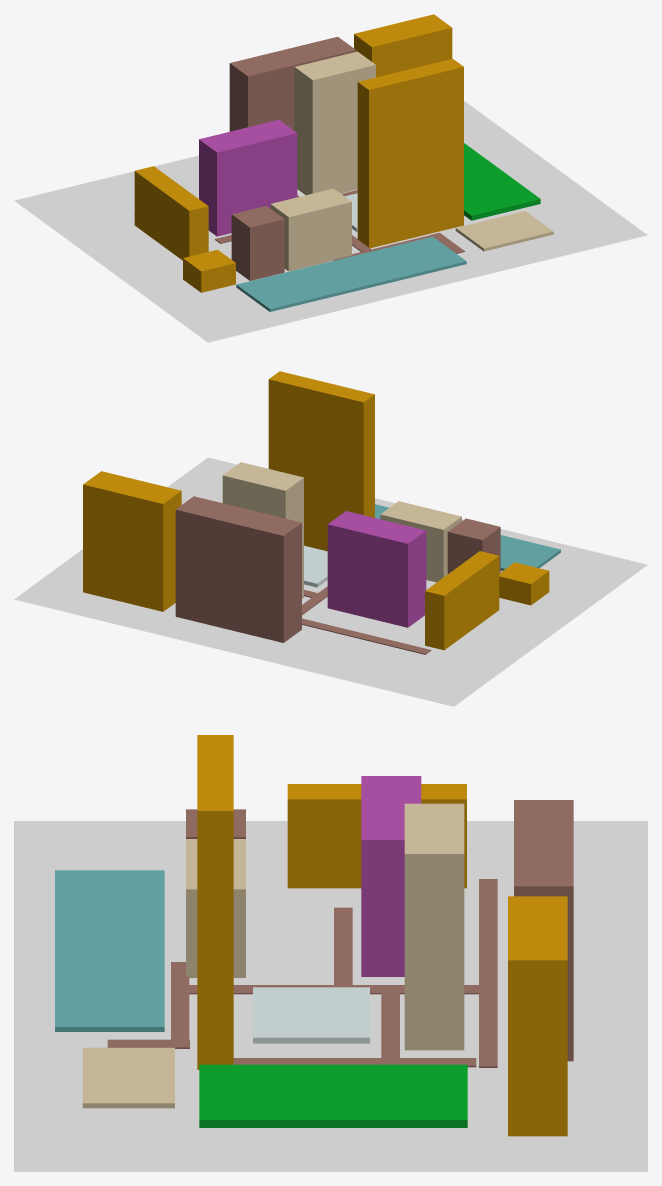
The picture shows the model from 3 angles, top to bottom: view 1: azimuth 30°, elevation 25°; view 2: azimuth 150°, elevation 25°; view 3: azimuth 270°, elevation 25°; orthographic projection. The views are drawn at different scales.
Visible parts, largest first — view 1: Plane, Cube, Cube.007, Cube.032, Cube.005, Cube.002, Cube.004, Cube.028, Cube.024, Cube.029, Cube.020, Cube.033 (+17 smaller); view 2: Plane, Cube.028, Cube.007, Cube.032, Cube.024, Cube.005, Cube.029, Cube.020, Cube.004, Cube.027, Cube.025, Cube.026 (+17 smaller); view 3: Plane, Cube, Cube.010, Cube.014, Cube.006, Cube.020, Cube.029, Cube.024, Cube.028, Cube.003, Cube.032, Cube.007 (+18 smaller).
Boxes of the visible parts, x1,y1,x2,y2 form: Plane: [14, 101, 647, 342]; Cube: [236, 236, 466, 311]; Cube.007: [357, 58, 463, 123]; Cube.032: [199, 120, 297, 176]; Cube.005: [357, 101, 463, 158]; Cube.002: [357, 169, 463, 226]; Cube.004: [357, 135, 463, 192]; Cube.028: [229, 36, 356, 99]; Cube.024: [354, 14, 452, 69]; Cube.029: [134, 166, 208, 243]; Cube.020: [294, 51, 375, 112]; Cube.033: [270, 188, 351, 249]; Plane: [14, 457, 647, 706]; Cube.028: [175, 496, 301, 559]; Cube.007: [268, 371, 374, 436]; Cube.032: [327, 511, 426, 567]; Cube.024: [83, 471, 181, 526]; Cube.005: [268, 413, 374, 470]; Cube.029: [425, 551, 499, 630]; Cube.020: [222, 462, 303, 519]; Cube.004: [268, 447, 374, 504]; Cube.027: [175, 533, 301, 582]; Cube.025: [175, 578, 301, 627]; Cube.026: [175, 556, 301, 603]; Plane: [14, 821, 647, 1171]; Cube: [55, 870, 164, 1031]; Cube.010: [199, 1064, 467, 1127]; Cube.014: [107, 879, 497, 1067]; Cube.006: [253, 987, 369, 1043]; Cube.020: [404, 803, 464, 908]; Cube.029: [287, 784, 466, 855]; Cube.024: [508, 896, 567, 998]; Cube.028: [514, 800, 573, 924]; Cube.003: [82, 1047, 174, 1108]; Cube.032: [361, 776, 421, 878]; Cube.007: [197, 735, 233, 867].
Bounding box in the file's own units: 167 × 61.92 × 127.
